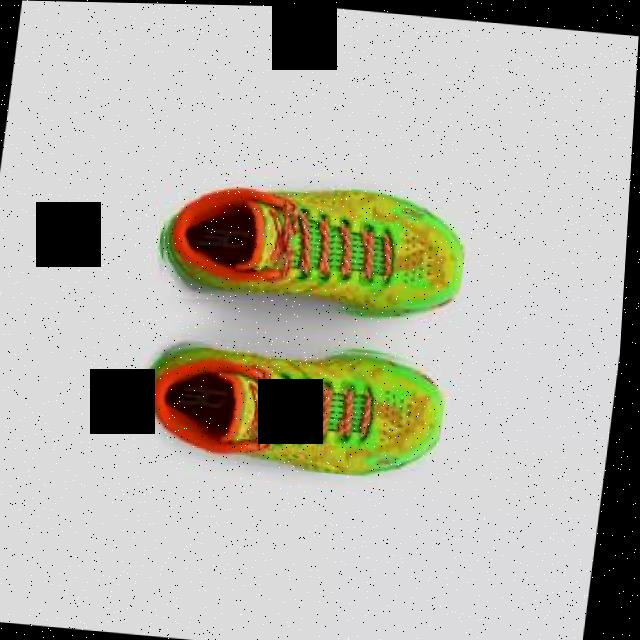shoe: (135, 326, 455, 480), (154, 172, 475, 321)
